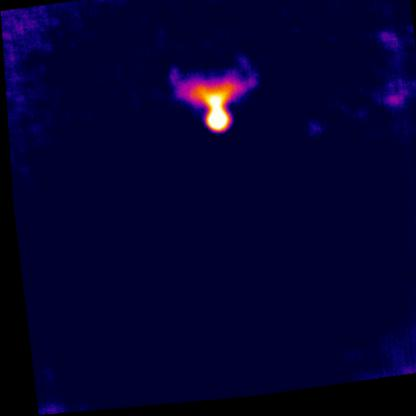drone: (164, 55, 263, 140)
